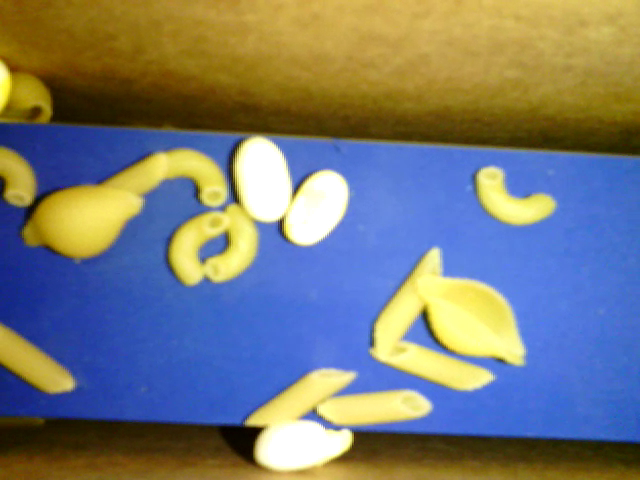elbow: (166, 200, 232, 290), (475, 164, 557, 229), (203, 200, 258, 284), (162, 143, 230, 207), (1, 149, 38, 210)
penne: (368, 245, 442, 357), (239, 366, 358, 429), (371, 337, 495, 395), (1, 324, 76, 397), (318, 385, 431, 431), (91, 148, 168, 196)
shell: (414, 269, 531, 364), (27, 186, 147, 259), (5, 68, 55, 129)
